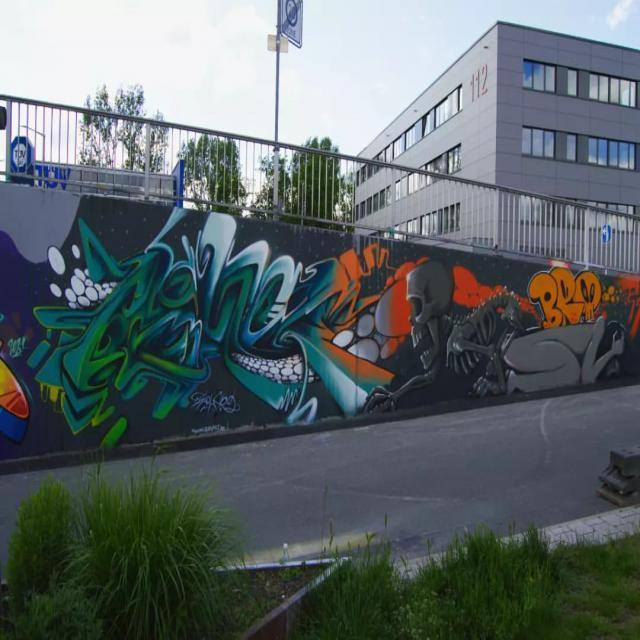-: (21, 199, 380, 434), (376, 254, 628, 388), (525, 261, 600, 332), (188, 378, 245, 430), (8, 331, 28, 368)
